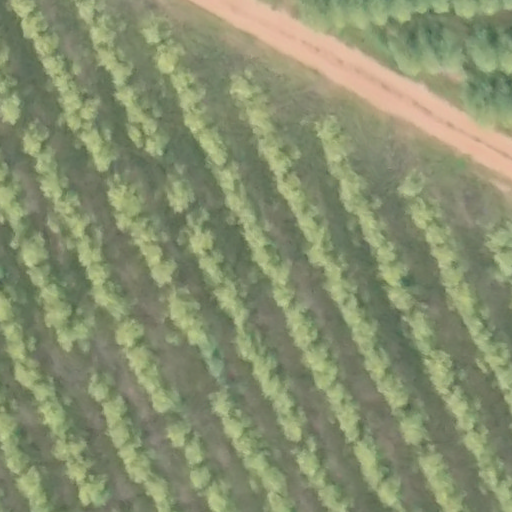eucalipto: (82, 361, 121, 406), (106, 175, 145, 219), (231, 69, 273, 109), (374, 243, 414, 284), (128, 121, 176, 155), (14, 466, 52, 508), (110, 314, 152, 350), (97, 49, 136, 83), (339, 173, 375, 208), (390, 165, 427, 199), (57, 319, 95, 352), (423, 346, 454, 386), (166, 287, 202, 321), (338, 406, 371, 443), (186, 226, 220, 261), (165, 177, 198, 213), (291, 444, 328, 476), (76, 475, 114, 506), (87, 139, 126, 169), (401, 413, 435, 447), (5, 325, 38, 360), (250, 354, 287, 385), (8, 357, 46, 387), (288, 317, 323, 349), (186, 327, 221, 359), (21, 120, 51, 157), (242, 106, 278, 136), (153, 39, 186, 71), (308, 358, 343, 388), (212, 280, 245, 311), (109, 421, 145, 449), (406, 309, 438, 340), (366, 348, 395, 382), (349, 319, 383, 348), (30, 27, 62, 57), (64, 455, 98, 483), (322, 133, 356, 161), (182, 435, 212, 466), (149, 256, 179, 287), (418, 450, 449, 480), (88, 21, 120, 50), (412, 199, 444, 228), (327, 275, 360, 302), (152, 385, 183, 413), (277, 170, 305, 200), (57, 87, 87, 114), (1, 91, 24, 126), (19, 13, 51, 38), (273, 285, 304, 310), (314, 115, 344, 140), (423, 221, 453, 246), (189, 461, 215, 489), (281, 413, 309, 439), (40, 56, 72, 78), (35, 283, 66, 305)
